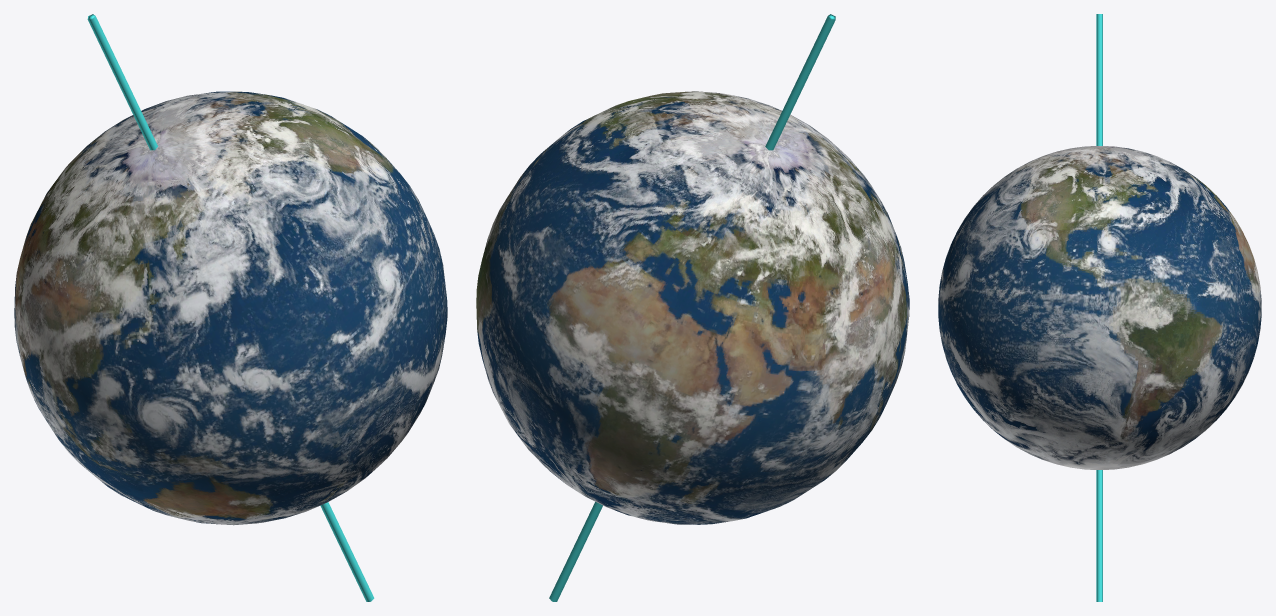
The model's file is earth_animation.fbx.
3 views of the same model, side by side, from view 1: azimuth 30°, elevation 25°; view 2: azimuth 150°, elevation 25°; view 3: azimuth 270°, elevation 25° (orthographic). The views are drawn at different scales.
Parts seen in each view (by area): view 1: earth, earth_axis; view 2: earth, earth_axis; view 3: earth, earth_axis.
Boxes of the visible parts, x1,y1,x2,y2 form: earth: (14,91,447,525); earth_axis: (87,14,374,601); earth: (476,91,909,524); earth_axis: (549,14,835,601); earth: (938,146,1261,469); earth_axis: (1096,14,1102,601).
Bounding box in the file's own units: 1270 × 2112 × 1268.
